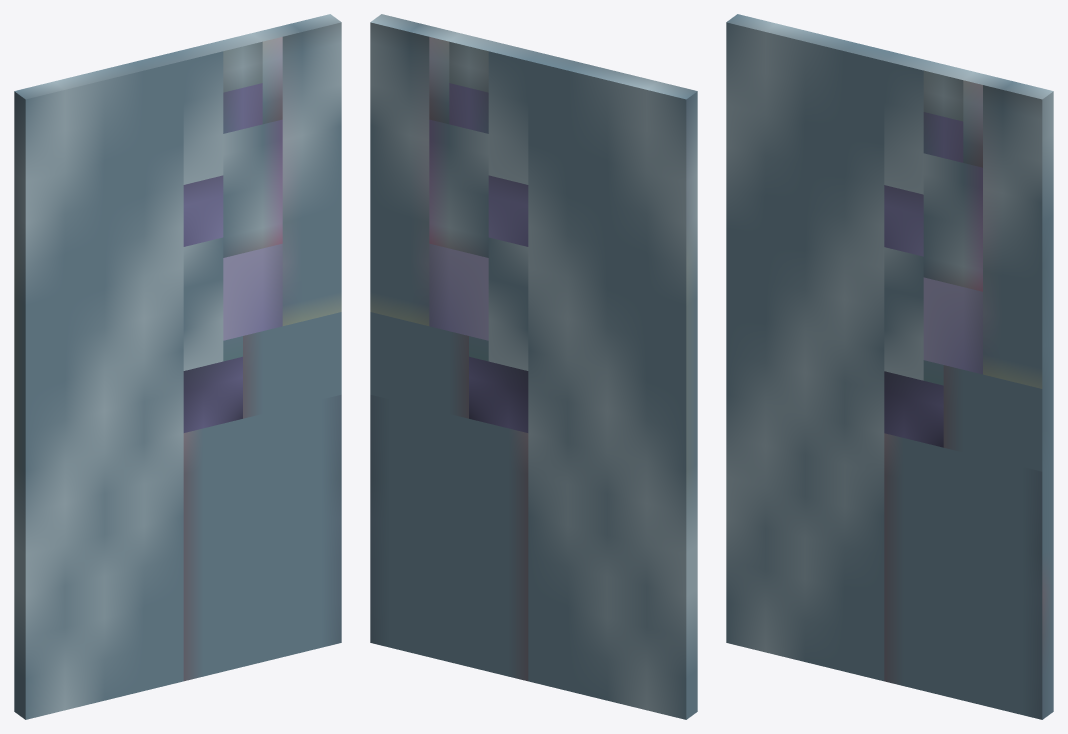
Rendered from Door_Glass_C_00.fbx.
3 renders of one model, left to right at view 1: azimuth 30°, elevation 25°; view 2: azimuth 150°, elevation 25°; view 3: azimuth 330°, elevation 25°, orthographic.
Visible parts, largest first — view 1: Door_Glass_C_00; view 2: Door_Glass_C_00; view 3: Door_Glass_C_00.
Boxes of the visible parts, x1,y1,x2,y2 form: Door_Glass_C_00: (14, 14, 341, 719); Door_Glass_C_00: (370, 14, 697, 719); Door_Glass_C_00: (726, 14, 1053, 719).
Bounding box in the file's own units: 80 × 150 × 5.
